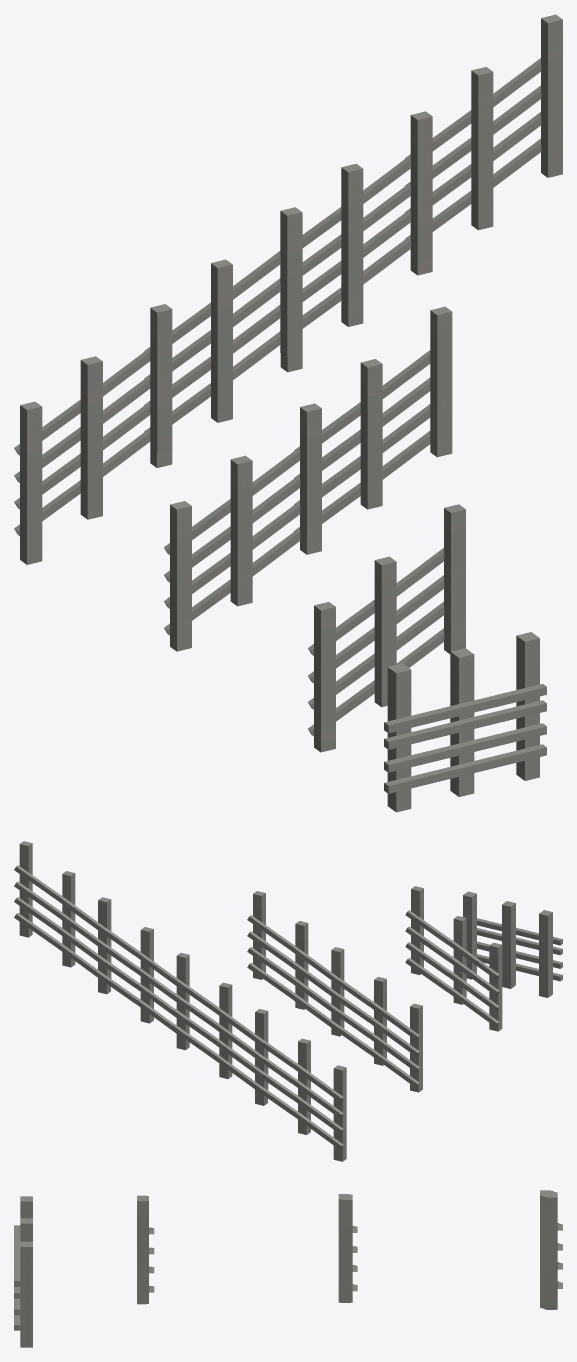
The model's file is Mazegame-Stairs-Railing06.glb.
The picture shows the model from 3 angles, top to bottom: view 1: azimuth 30°, elevation 25°; view 2: azimuth 150°, elevation 25°; view 3: azimuth 270°, elevation 25°; orthographic projection. The views are drawn at different scales.
Visible parts, largest first — view 1: LongRail_9, LongRail_5, RegularRail, LongRail_3; view 2: LongRail_9, LongRail_5, LongRail_3, RegularRail; view 3: RegularRail, LongRail_9, LongRail_5, LongRail_3.
Part boxes in pixels (<box>): LongRail_9: <box>14,14,562,564</box>; LongRail_5: <box>164,306,452,651</box>; RegularRail: <box>384,632,546,812</box>; LongRail_3: <box>308,504,465,752</box>; LongRail_9: <box>14,841,346,1161</box>; LongRail_5: <box>247,891,422,1092</box>; LongRail_3: <box>405,886,502,1031</box>; RegularRail: <box>463,891,562,997</box>; RegularRail: <box>14,1196,32,1347</box>; LongRail_9: <box>540,1190,562,1309</box>; LongRail_5: <box>338,1194,357,1302</box>; LongRail_3: <box>137,1195,154,1304</box>.
Size of what is drawn, in the model's own units: 9.11 by 6.49 by 10.9.
Materials: 3 (3 with a texture image).
